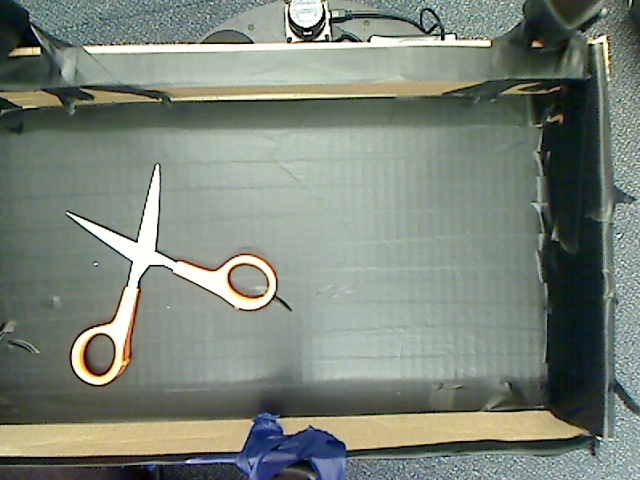scissors: (61, 156, 278, 394)
